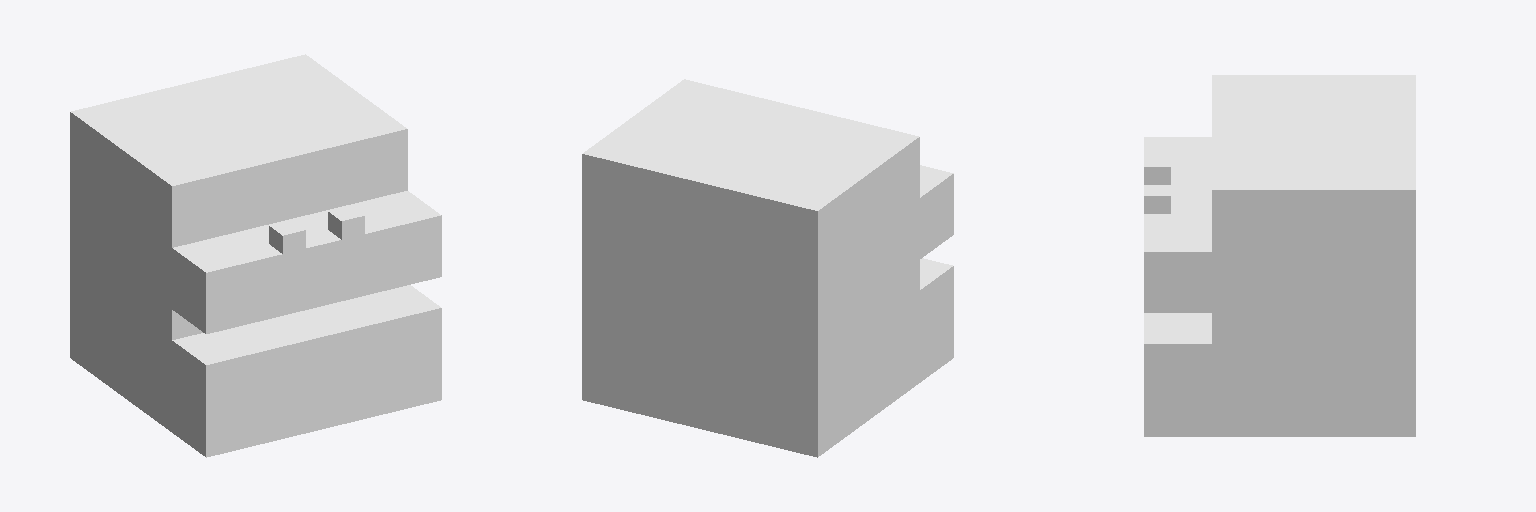
File: Dinosour.obj
3 views of the same model, side by side, from view 1: azimuth 30°, elevation 25°; view 2: azimuth 150°, elevation 25°; view 3: azimuth 270°, elevation 25° (orthographic).
Visible parts, largest first — view 1: Dinosour; view 2: Dinosour; view 3: Dinosour.
Part boxes in pixels (left/top/right/bottom): Dinosour: left=70, top=54, right=441, bottom=457; Dinosour: left=582, top=79, right=953, bottom=457; Dinosour: left=1144, top=75, right=1415, bottom=436.
Bounding box in the file's own units: 40 × 40 × 40.